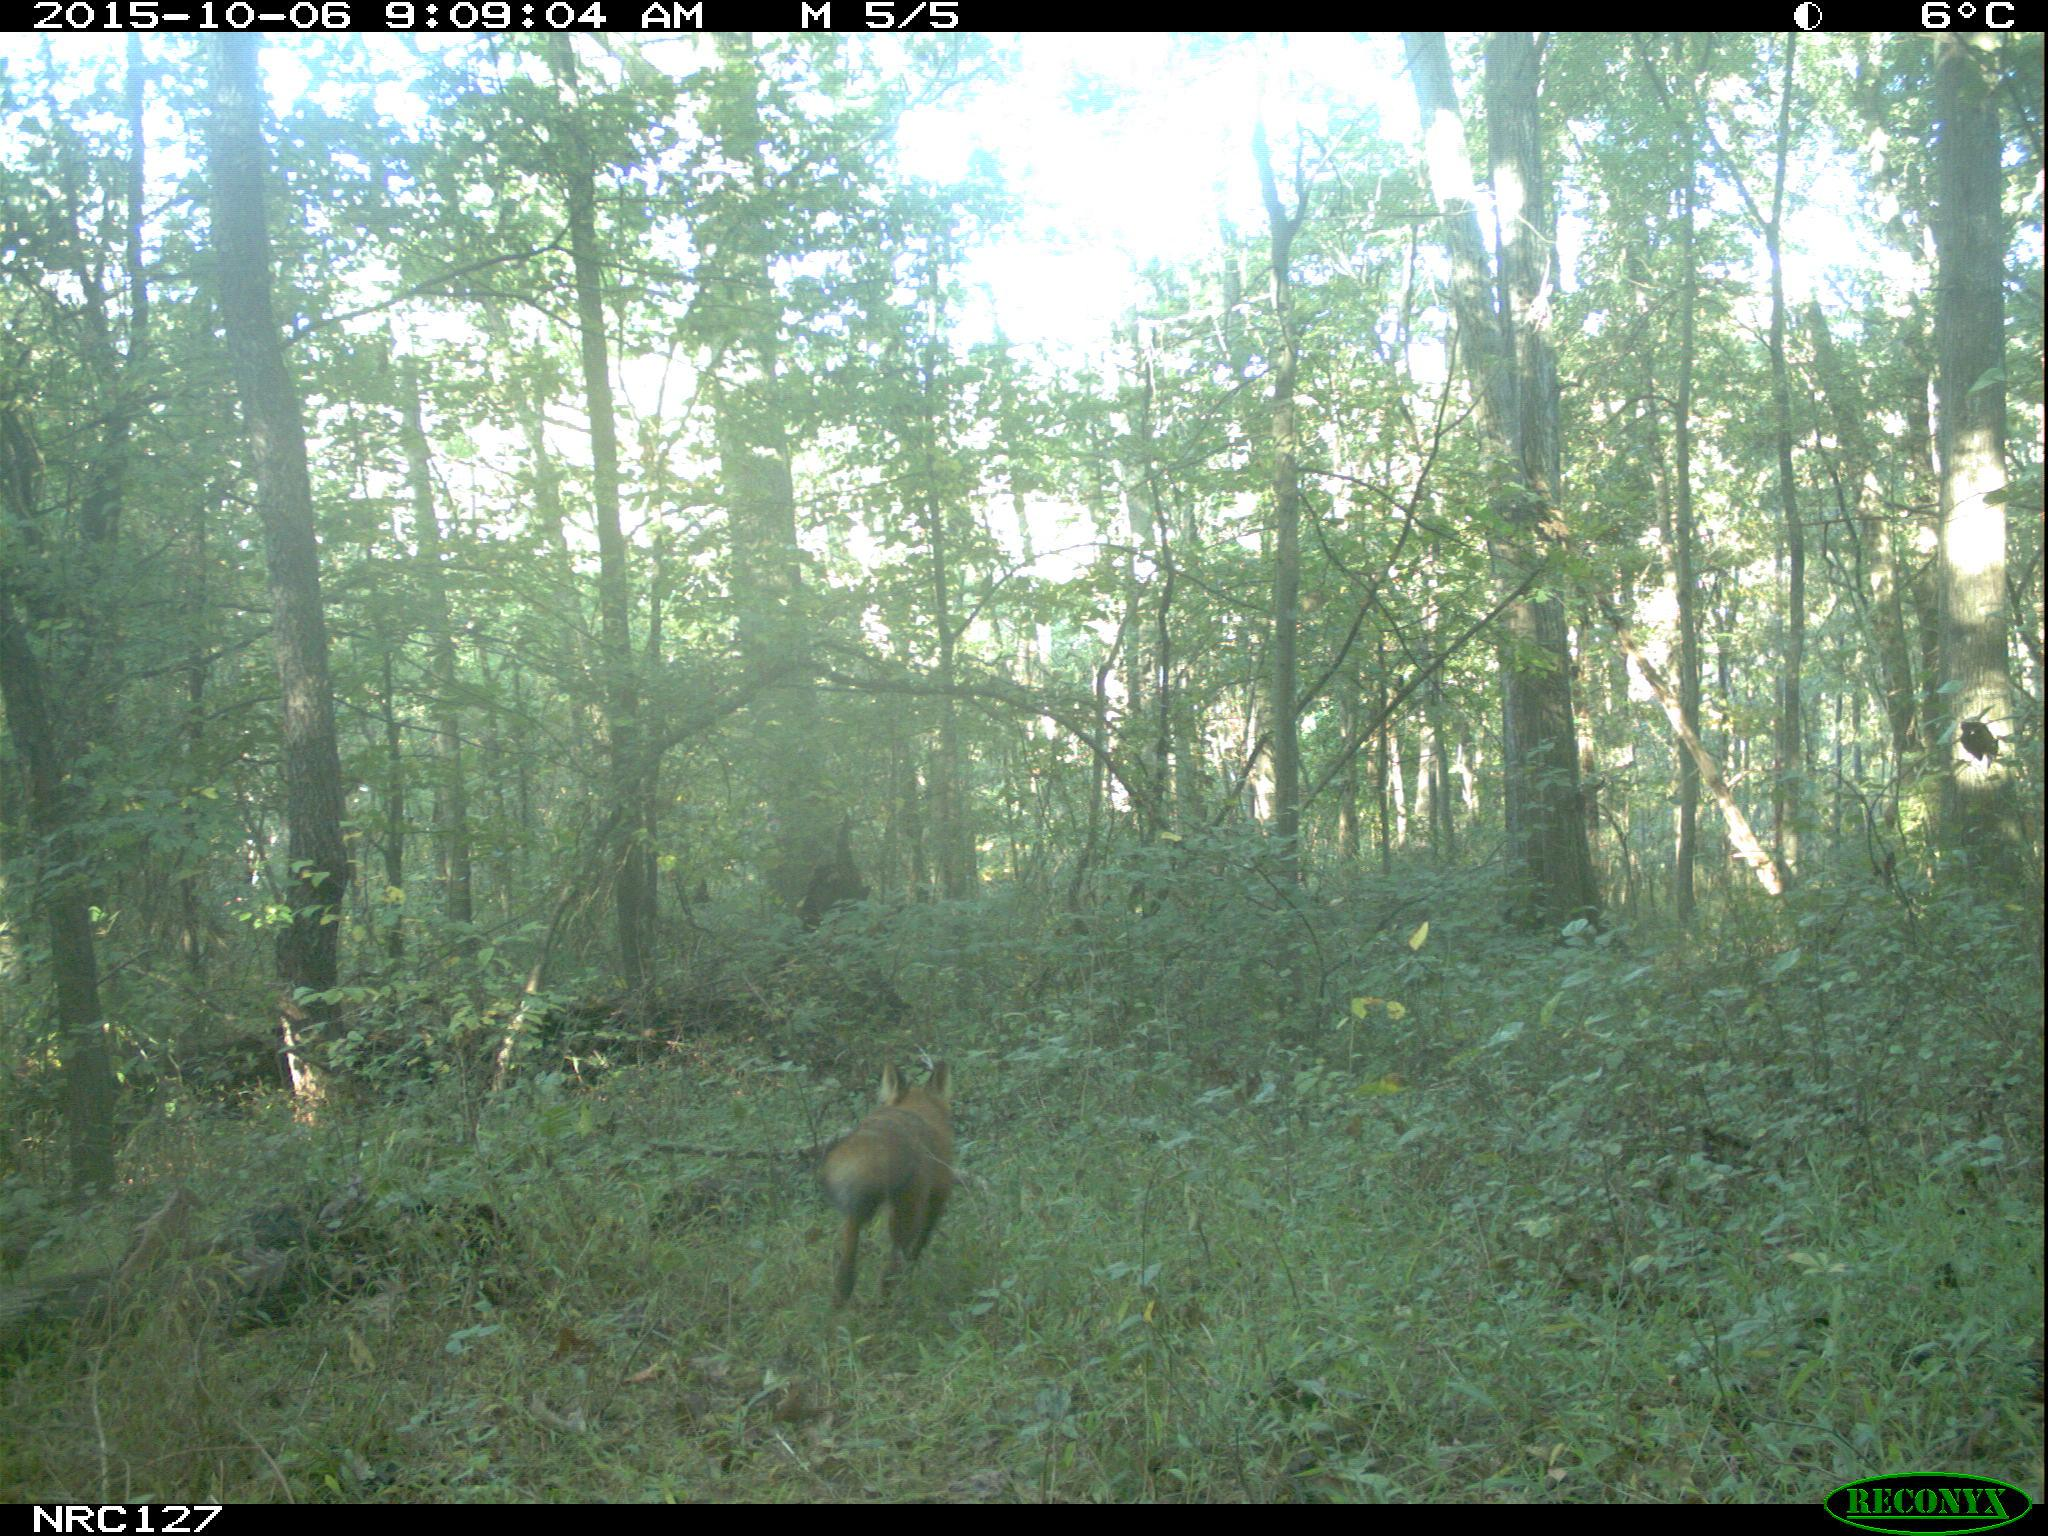Animal: (827, 1058, 959, 1309)
